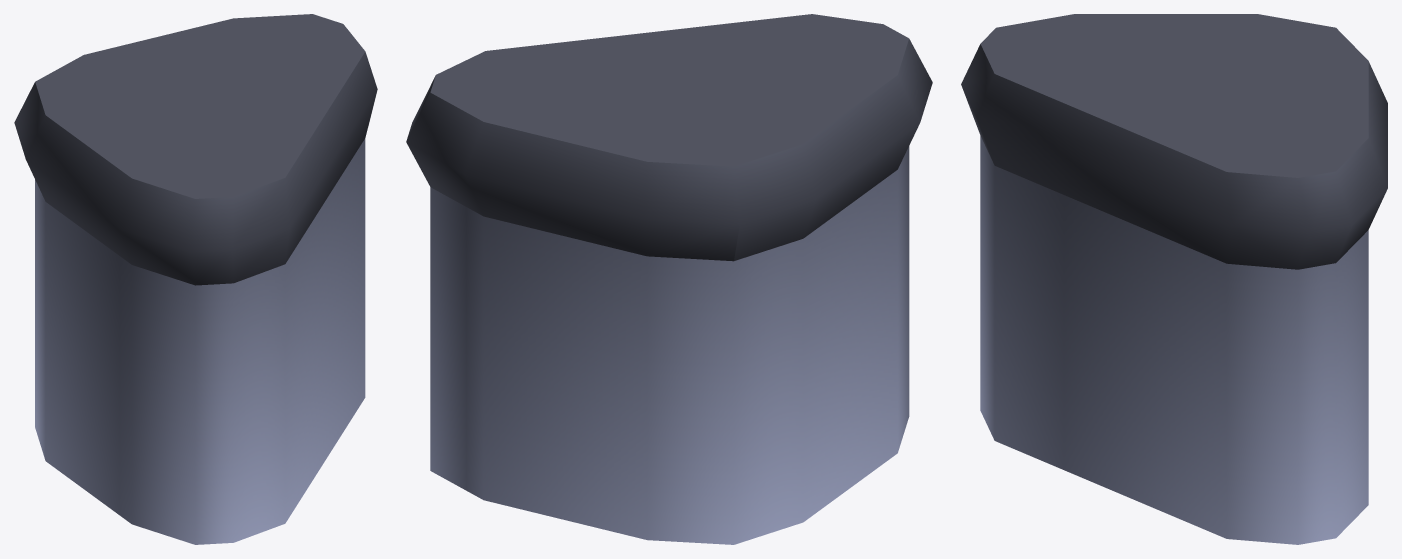
The model's file is block-snow-corner.glb.
The picture shows the model from 3 angles, left to right: view 1: azimuth 30°, elevation 25°; view 2: azimuth 150°, elevation 25°; view 3: azimuth 270°, elevation 25°; orthographic projection. The views are drawn at different scales.
Parts seen in each view (by area): view 1: block-snow-corner; view 2: block-snow-corner; view 3: block-snow-corner.
Boxes of the visible parts, bbox=[...] form: block-snow-corner: bbox=[14, 14, 377, 544]; block-snow-corner: bbox=[406, 14, 932, 544]; block-snow-corner: bbox=[961, 14, 1387, 544].
Bounding box in the file's own units: 1.05 × 1 × 1.05.
